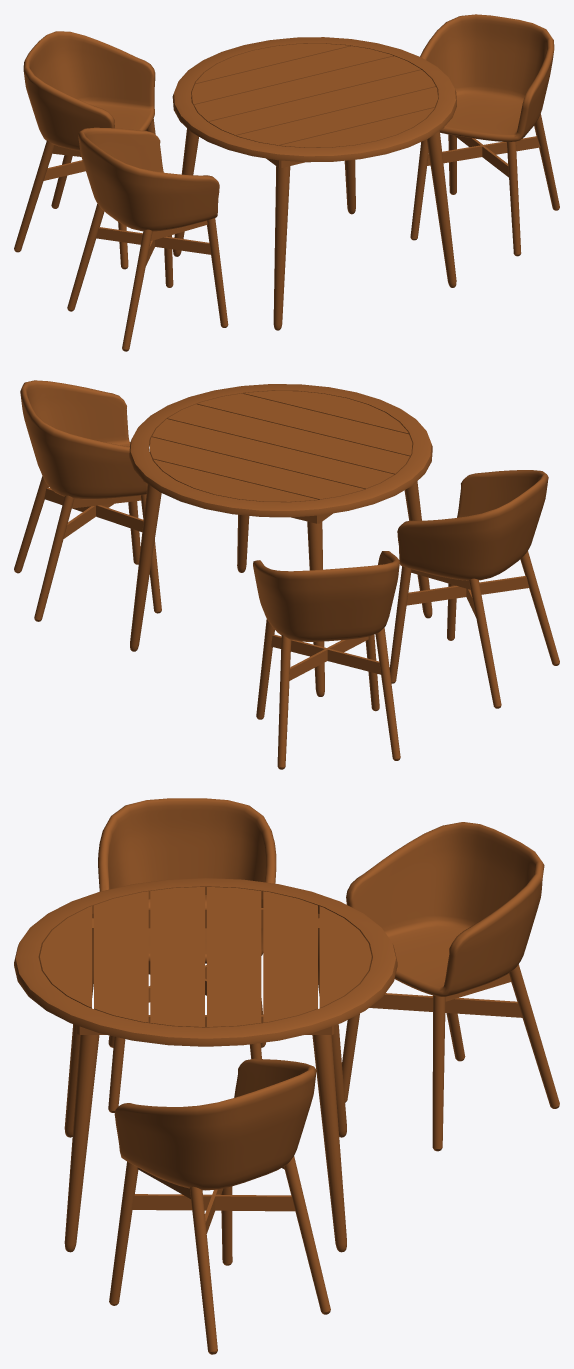
File: smDeko.FBX
3 renders of one model, top to bottom at view 1: azimuth 30°, elevation 25°; view 2: azimuth 150°, elevation 25°; view 3: azimuth 270°, elevation 25°, orthographic. The views are drawn at different scales.
Visible parts, largest first — view 1: Box053, Plane021_Retopo007, Plane021_Retopo006, Plane021_Retopo005, Torus001, Cylinder007, Cylinder009, Box091, Cylinder040, Box099, Cylinder049, Cylinder044 (+8 smaller); view 2: Box053, Plane021_Retopo005, Plane021_Retopo007, Plane021_Retopo006, Torus001, Cylinder010, Box092, Cylinder046, Cylinder042, Cylinder044, Cylinder048, Box096 (+12 smaller); view 3: Box053, Plane021_Retopo006, Plane021_Retopo007, Torus001, Plane021_Retopo005, Cylinder009, Cylinder010, Box100, Box095, Cylinder050, Cylinder048, Cylinder045 (+7 smaller).
Part boxes in pixels (left/top/right/bottom): Box053: left=192, top=43, right=437, bottom=147; Plane021_Retopo007: left=420, top=14, right=554, bottom=141; Plane021_Retopo006: left=23, top=31, right=155, bottom=151; Plane021_Retopo005: left=78, top=127, right=219, bottom=231; Torus001: left=172, top=37, right=456, bottom=162; Cylinder007: left=273, top=166, right=290, bottom=330; Cylinder009: left=426, top=131, right=456, bottom=287; Box091: left=96, top=227, right=210, bottom=254; Cylinder040: left=122, top=229, right=152, bottom=351; Box099: left=427, top=136, right=540, bottom=165; Cylinder049: left=506, top=141, right=521, bottom=256; Cylinder044: left=14, top=140, right=54, bottom=252; Box053: left=149, top=391, right=412, bottom=502; Plane021_Retopo005: left=397, top=470, right=548, bottom=580; Plane021_Retopo007: left=20, top=380, right=147, bottom=499; Plane021_Retopo006: left=253, top=551, right=399, bottom=641; Torus001: left=129, top=384, right=432, bottom=517; Cylinder010: left=130, top=484, right=161, bottom=651; Box092: left=406, top=576, right=528, bottom=605; Cylinder046: left=277, top=635, right=291, bottom=769; Cylinder042: left=469, top=578, right=501, bottom=708; Cylinder044: left=375, top=627, right=400, bottom=760; Cylinder048: left=34, top=495, right=74, bottom=621; Box096: left=271, top=634, right=380, bottom=674; Box053: left=39, top=887, right=371, bottom=1027; Plane021_Retopo006: left=346, top=822, right=544, bottom=996; Plane021_Retopo007: left=114, top=1058, right=316, bottom=1190; Torus001: left=14, top=878, right=397, bottom=1046; Plane021_Retopo005: left=98, top=798, right=276, bottom=963; Cylinder009: left=64, top=1035, right=99, bottom=1252; Cylinder010: left=312, top=1035, right=346, bottom=1252; Box100: left=132, top=1194, right=295, bottom=1211; Box095: left=369, top=993, right=522, bottom=1017; Cylinder050: left=189, top=1186, right=217, bottom=1354; Cylinder048: left=284, top=1156, right=330, bottom=1314; Cylinder045: left=432, top=995, right=445, bottom=1151.
Size of the model in its own units: 23.26 by 8.67 by 17.24.
